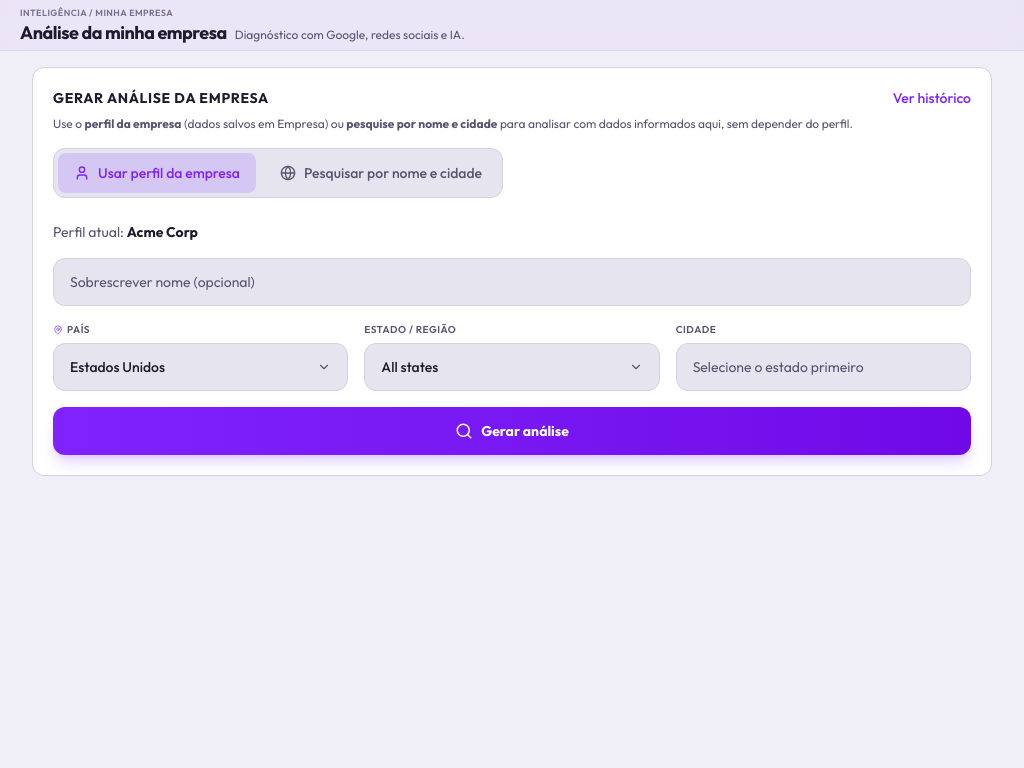
Scenario: Intelligence modules › MinhaEmpresaPage › hides Reclame Aqui section in US market
Click the button "Gerar análise": (512, 431) [53,407,971,455]
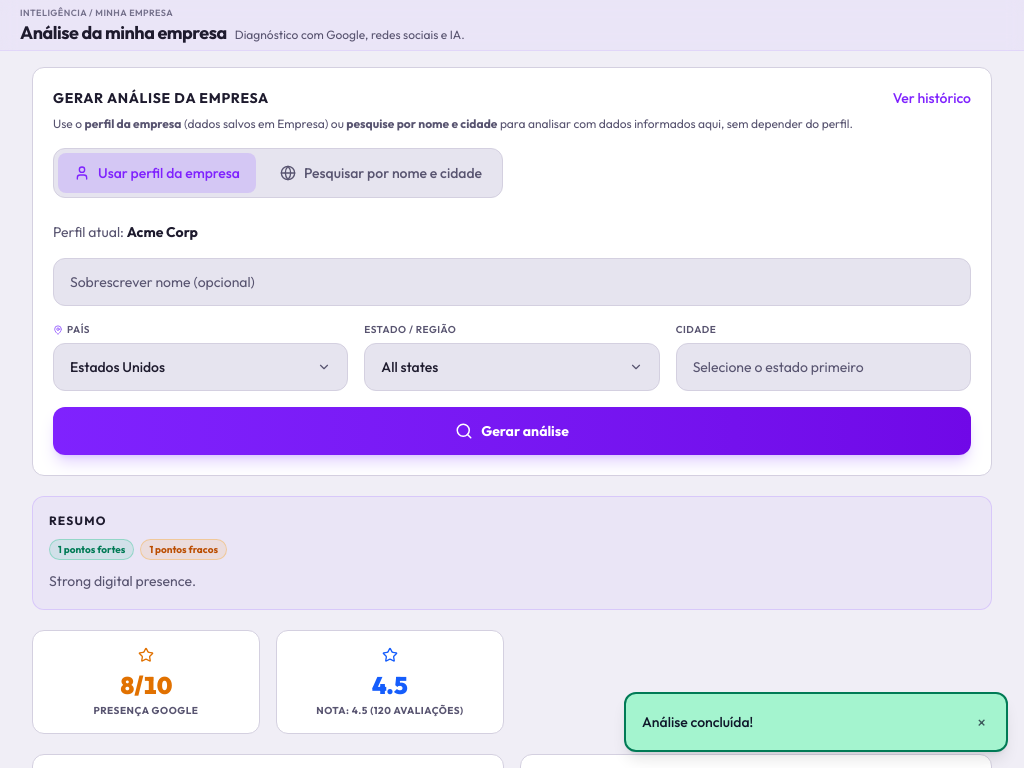
Expected: the text "Strong digital presence." is shown, [49,572,196,590]
Expected: the text "Presença Google" is shown, [94,705,198,717]
